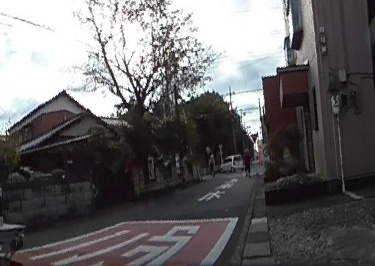person: (243, 148, 251, 173), (208, 152, 217, 172)
